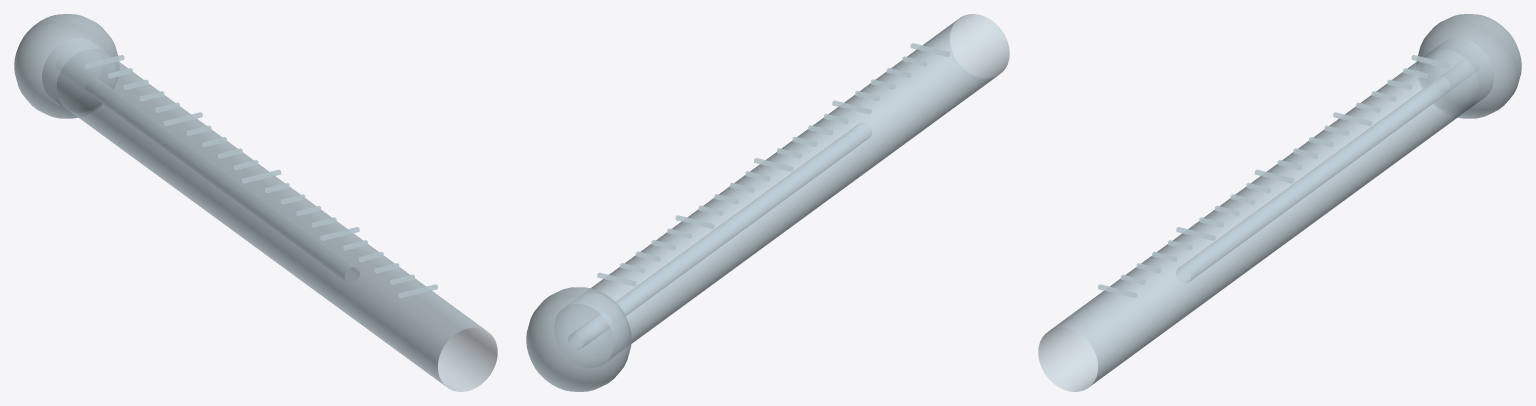
The model's file is modelo.glb.
3 renders of one model, left to right at view 1: azimuth 30°, elevation 25°; view 2: azimuth 150°, elevation 25°; view 3: azimuth 330°, elevation 25°, orthographic.
Parts seen in each view (by area): view 1: Termometro de Laboratorio; view 2: Termometro de Laboratorio; view 3: Termometro de Laboratorio.
Boxes of the visible parts, x1,y1,x2,y2 form: Termometro de Laboratorio: (14, 14, 497, 391); Termometro de Laboratorio: (526, 14, 1009, 391); Termometro de Laboratorio: (1038, 14, 1521, 391).
Size of the model in its own units: 0.0309 by 0.0309 by 0.25.
